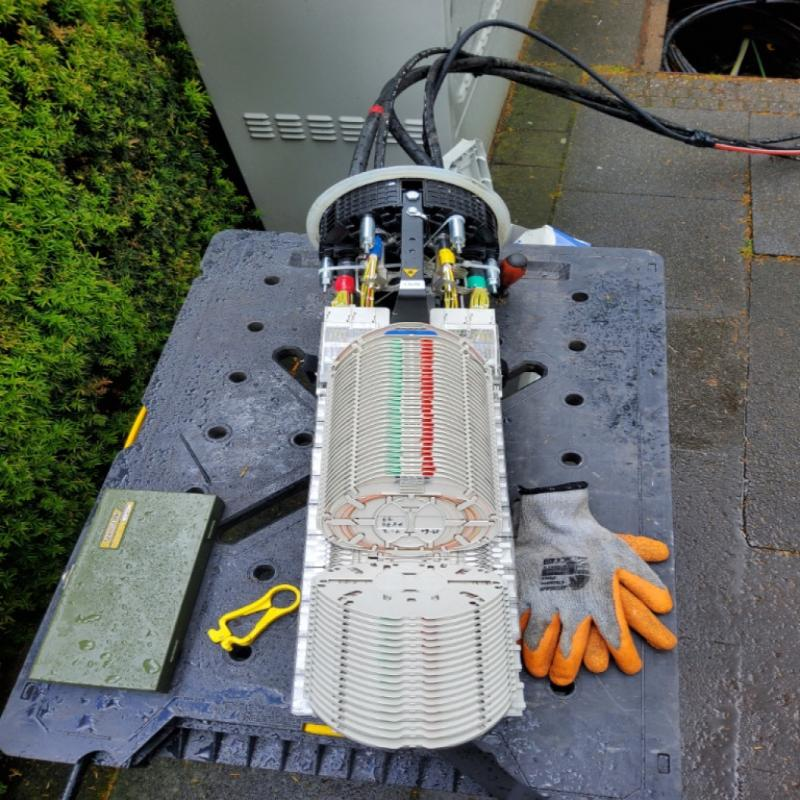NT-Muffen: (313, 150, 525, 753)
